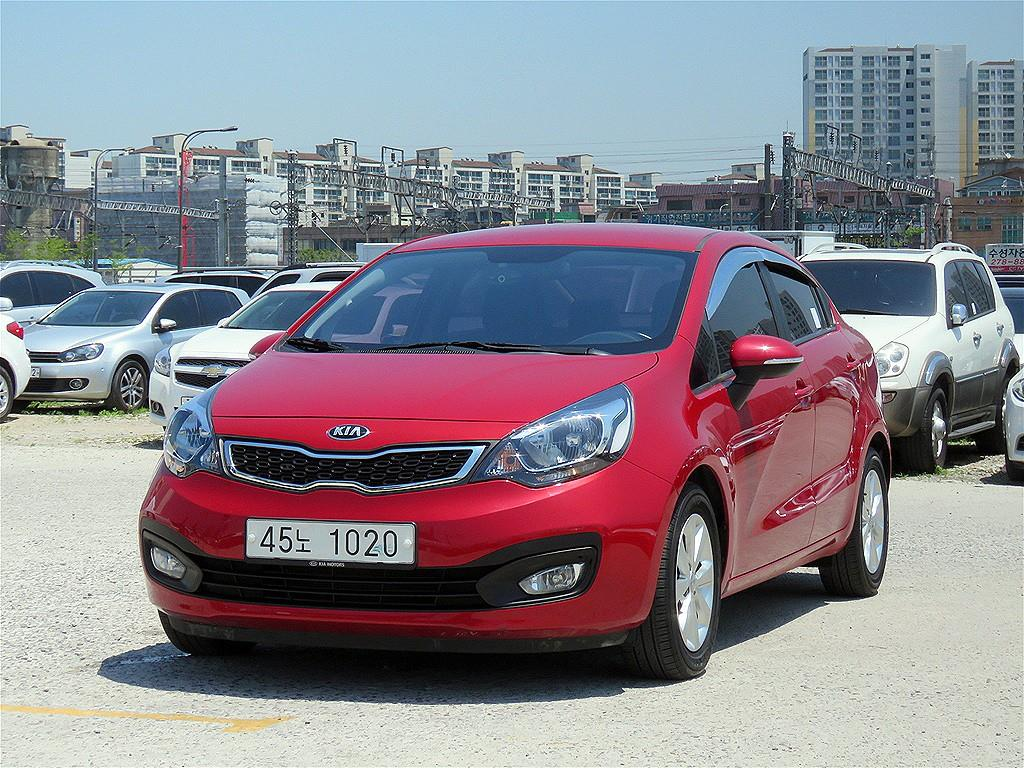plate: (246, 520, 415, 564)
